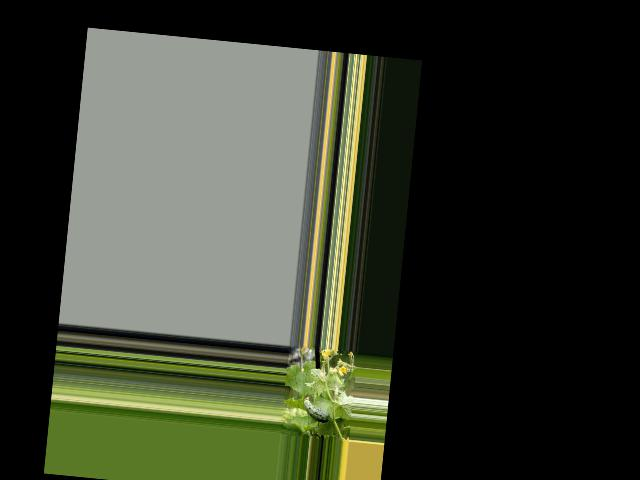cucumber: (301, 395, 332, 423)
